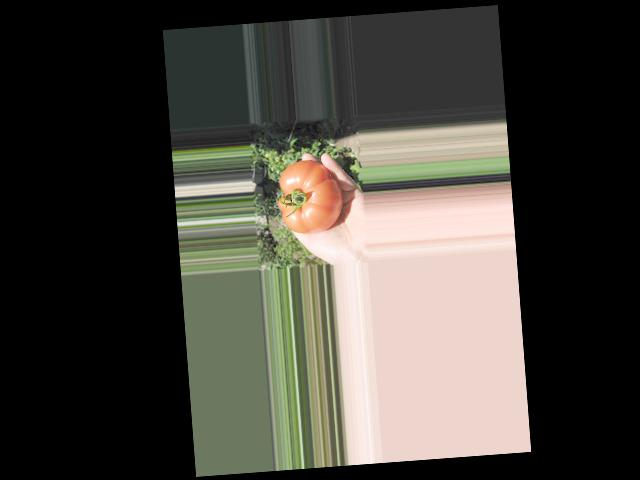tomato: (275, 157, 344, 235)
